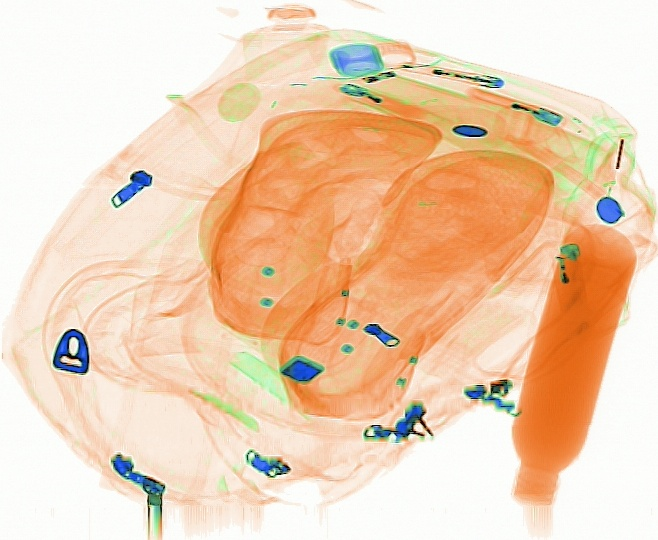lighter: (465, 86, 562, 128), (336, 82, 426, 124), (551, 241, 586, 318), (408, 62, 503, 90)
